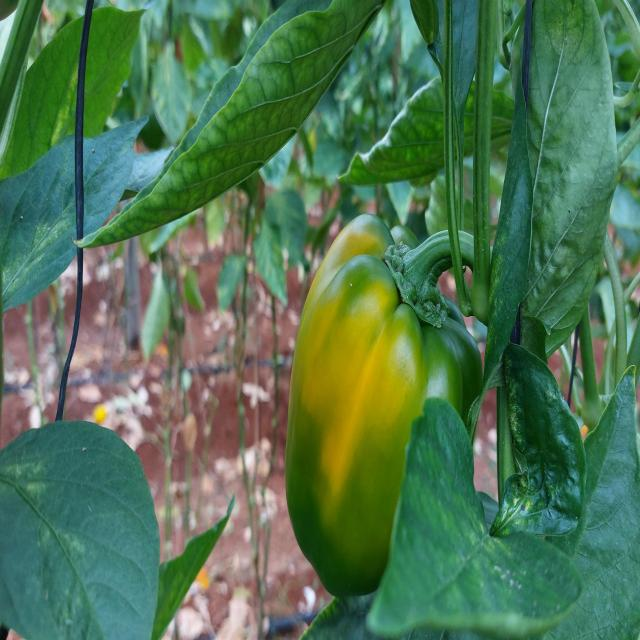GreenishYellow--Can-be-Harvested: (270, 214, 522, 597)
